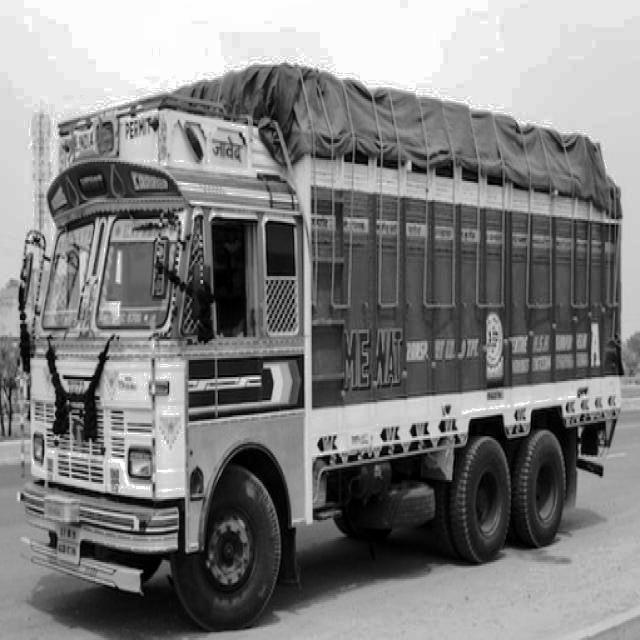HCV: (17, 36, 625, 624)
